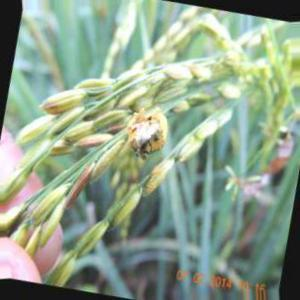False Smut: (128, 112, 168, 157)
